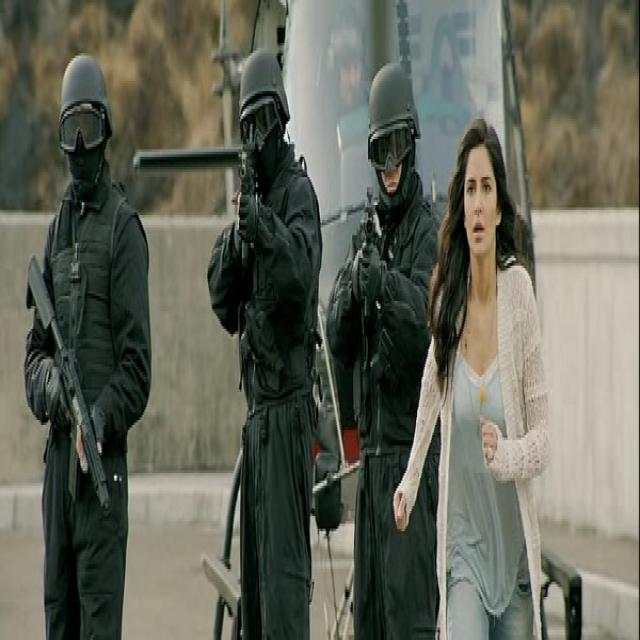rifle: (24, 250, 112, 520), (238, 142, 260, 266)
